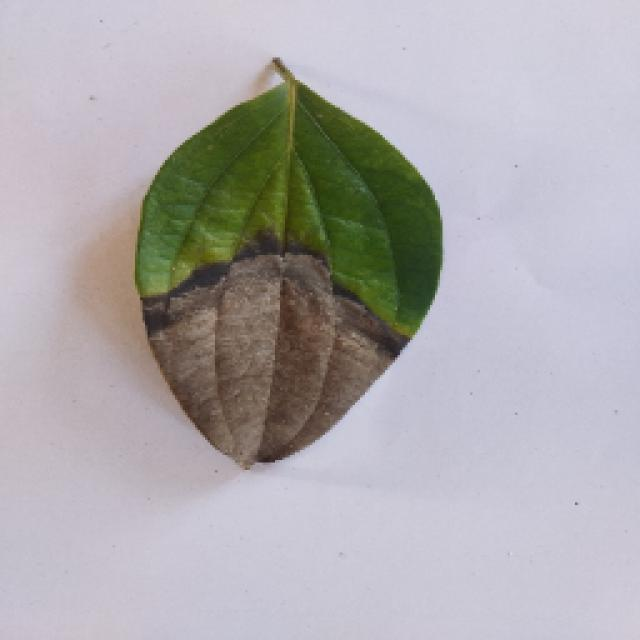footrot: (112, 48, 452, 470)
